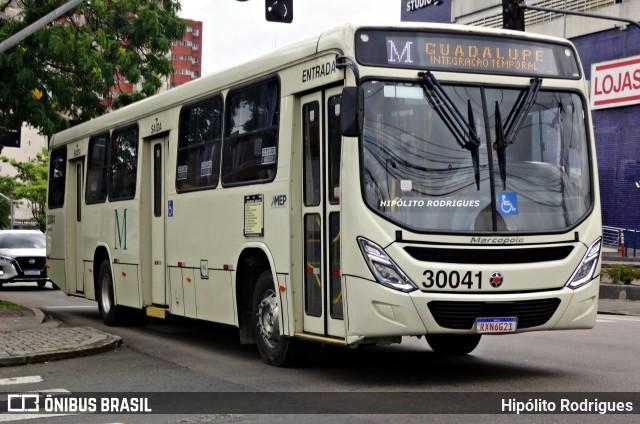GUADALUPE: (420, 38, 547, 65)
